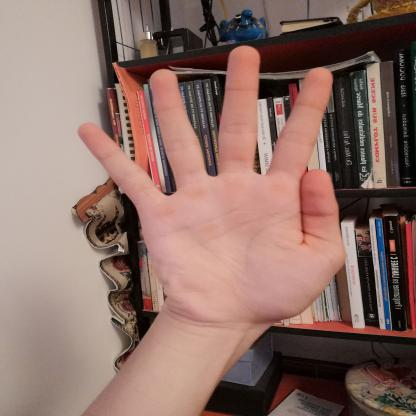SHEEN: (62, 37, 363, 336)
